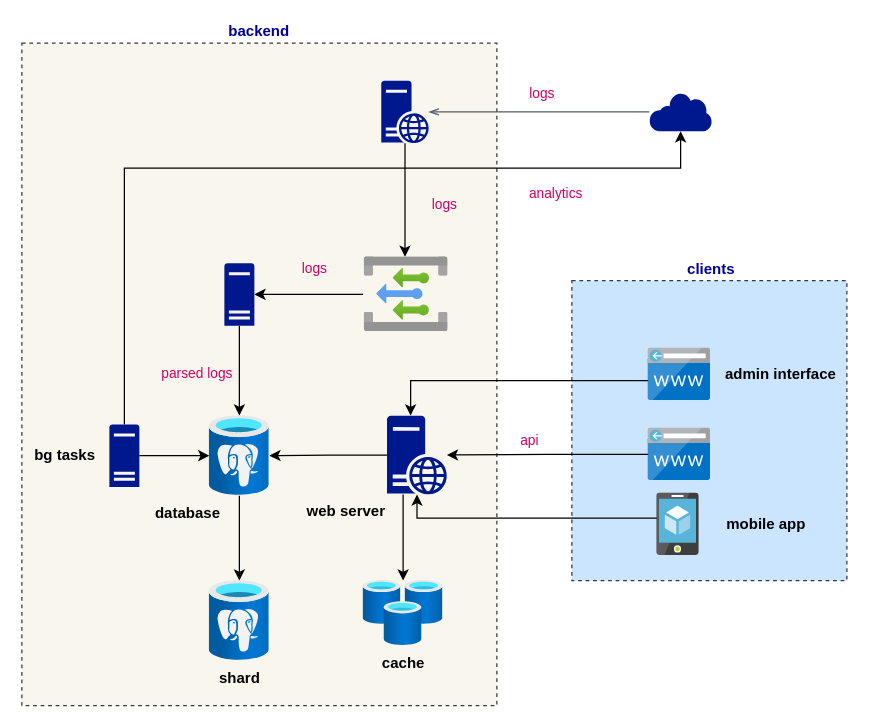
Image size: 869x728. Some labels were removed from this diagram. The shapes that lost their labels are listed below. From the top down, each one's centre as x and y in pixels, then its label:
the point at 404,111: consumer
the point at 680,111: core system
the point at 239,293: parser
the point at 404,293: queue
the point at 679,454: user cabinet
